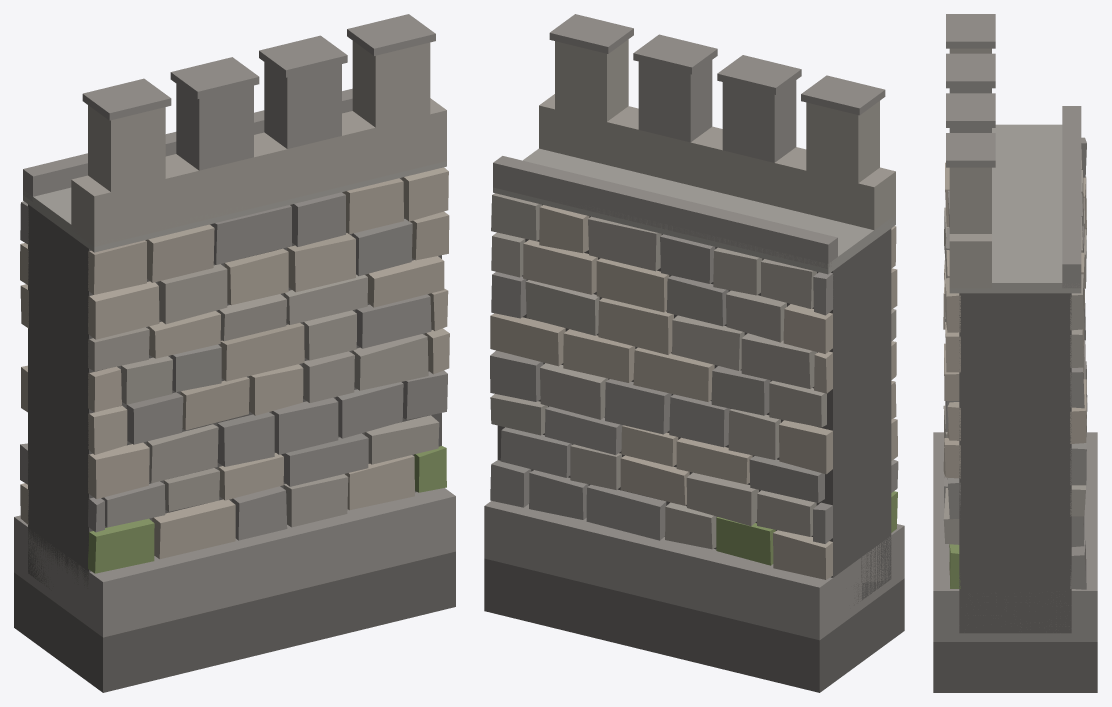
Rendered from SM_Wall_Straight.fbx.
3 renders of one model, left to right at view 1: azimuth 30°, elevation 25°; view 2: azimuth 150°, elevation 25°; view 3: azimuth 270°, elevation 25°, orthographic. The views are drawn at different scales.
Parts seen in each view (by area): view 1: SM_Wall_Straight; view 2: SM_Wall_Straight; view 3: SM_Wall_Straight.
Boxes of the visible parts, x1,y1,x2,y2 form: SM_Wall_Straight: (14,14,455,692); SM_Wall_Straight: (484,14,904,692); SM_Wall_Straight: (933,14,1097,692).
Bounding box in the file's own units: 4 × 6.19 × 1.75.
